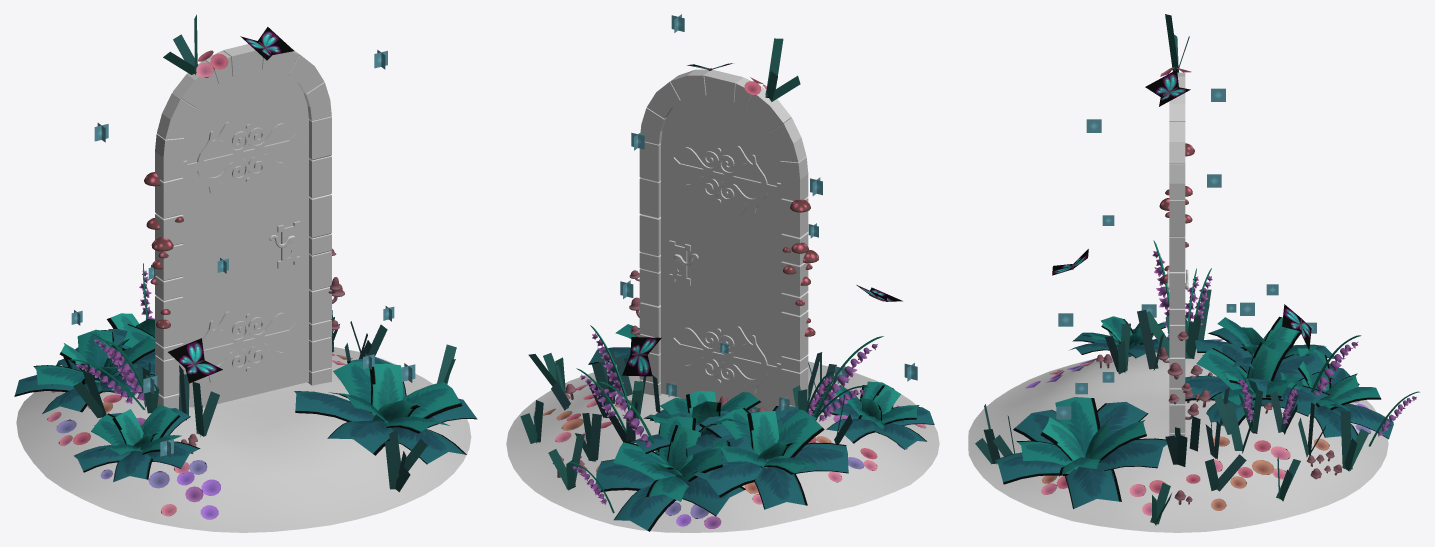
Rendered from Door_export_final.fbx.
3 renders of one model, left to right at view 1: azimuth 30°, elevation 25°; view 2: azimuth 150°, elevation 25°; view 3: azimuth 270°, elevation 25°, orthographic. The views are drawn at different scales.
Visible parts, largest first — view 1: main_group2_door, main_group2_detail, pDisc1; view 2: main_group2_door, main_group2_detail, pDisc1; view 3: main_group2_detail, pDisc1, main_group2_door.
Boxes of the visible parts, <box> form: main_group2_door: <box>155,44,331,409</box>; main_group2_detail: <box>14,14,477,519</box>; pDisc1: <box>16,347,471,532</box>; main_group2_door: <box>639,69,808,411</box>; main_group2_detail: <box>520,14,934,531</box>; pDisc1: <box>506,361,939,532</box>; main_group2_detail: <box>975,14,1419,525</box>; pDisc1: <box>968,348,1388,532</box>; main_group2_door: <box>1167,72,1188,436</box>.
Bounding box in the file's own units: 0.0501 × 0.0517 × 0.0522.
